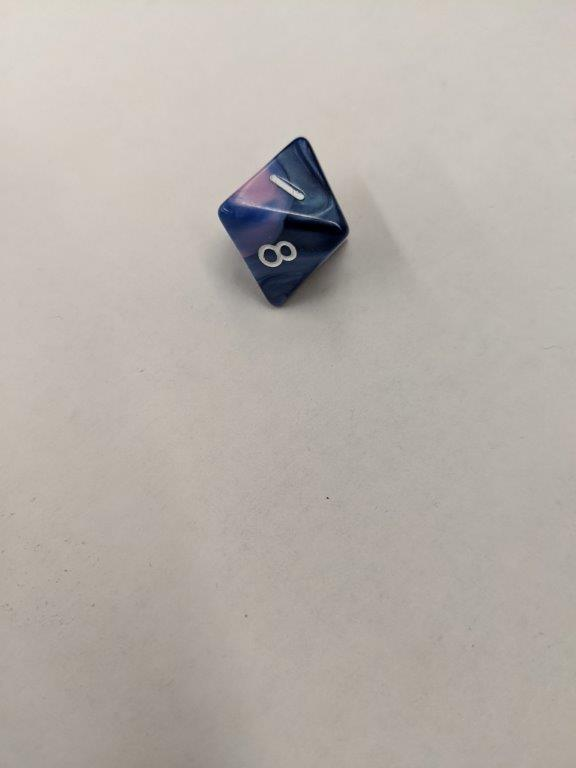d8-1: (218, 135, 350, 311)
